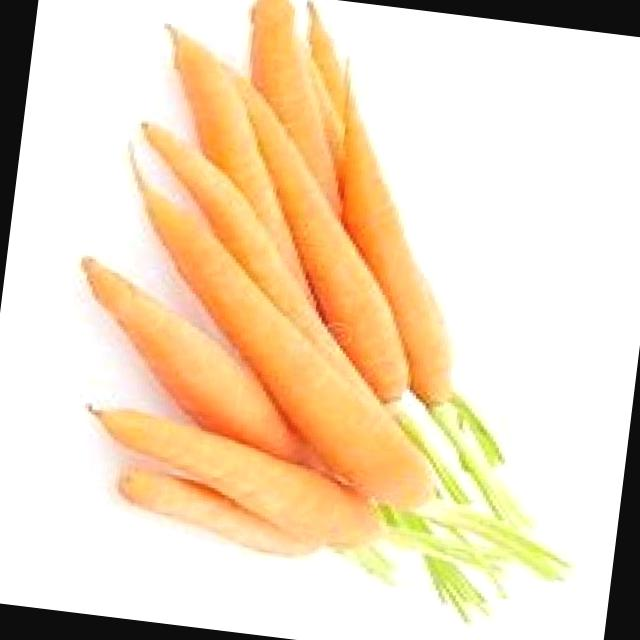carrot: (142, 171, 435, 503), (229, 70, 404, 399), (93, 411, 376, 546), (340, 79, 453, 409)
